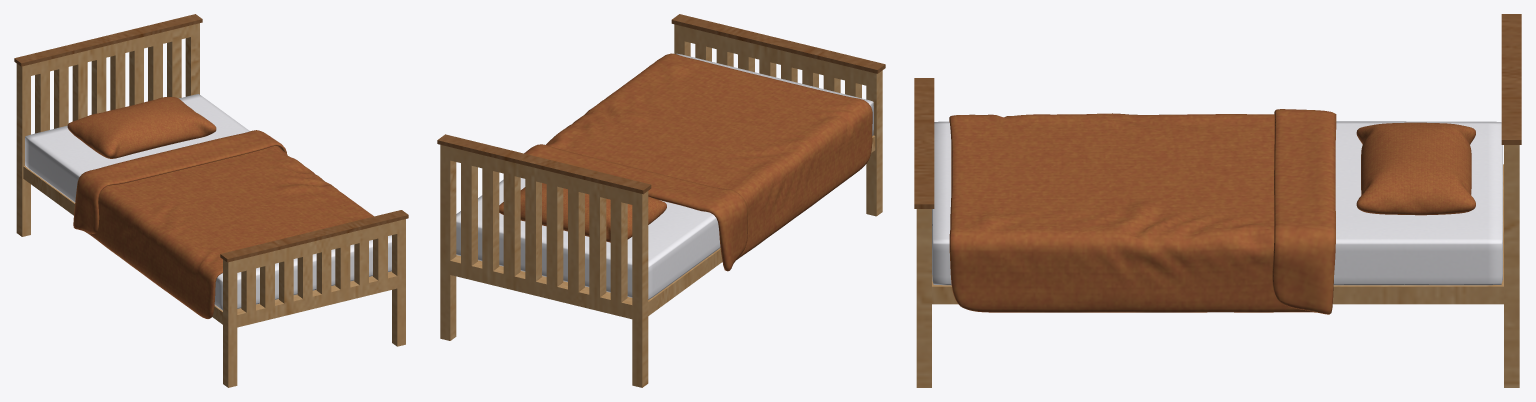
The model's file is Bed01.fbx.
3 views of the same model, side by side, from view 1: azimuth 30°, elevation 25°; view 2: azimuth 150°, elevation 25°; view 3: azimuth 270°, elevation 25° (orthographic). The views are drawn at different scales.
Parts seen in each view (by area): view 1: BedFrame01, Blanket01, Mattress01, Pillow; view 2: BedFrame01, Blanket01, Mattress01, Pillow; view 3: Blanket01, Mattress01, BedFrame01, Pillow.
Boxes of the visible parts, x1=… form: BedFrame01: x1=14, y1=14, x2=408, y2=387; Blanket01: x1=73, y1=130, x2=373, y2=318; Mattress01: x1=25, y1=94, x2=391, y2=310; Pillow: x1=67, y1=97, x2=216, y2=158; BedFrame01: x1=437, y1=14, x2=885, y2=387; Blanket01: x1=524, y1=53, x2=872, y2=271; Mattress01: x1=456, y1=53, x2=873, y2=299; Pillow: x1=499, y1=183, x2=666, y2=242; Blanket01: x1=949, y1=109, x2=1336, y2=314; Mattress01: x1=932, y1=121, x2=1502, y2=285; BedFrame01: x1=914, y1=14, x2=1521, y2=387; Pillow: x1=1356, y1=122, x2=1475, y2=215.
Size of the model in its own units: 121 by 101 by 224.
